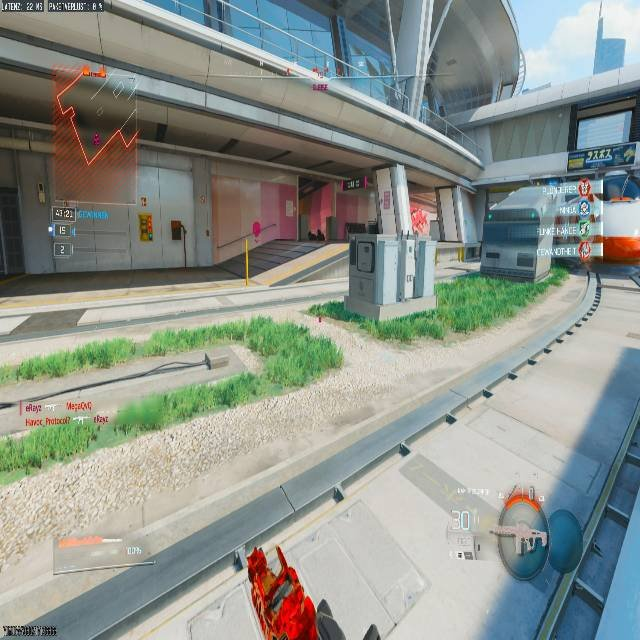player: (308, 228, 325, 241)
